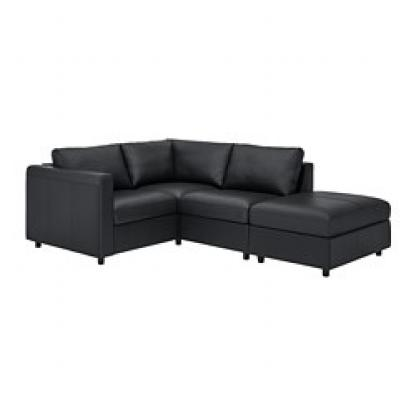Sofa: (18, 128, 393, 288)
